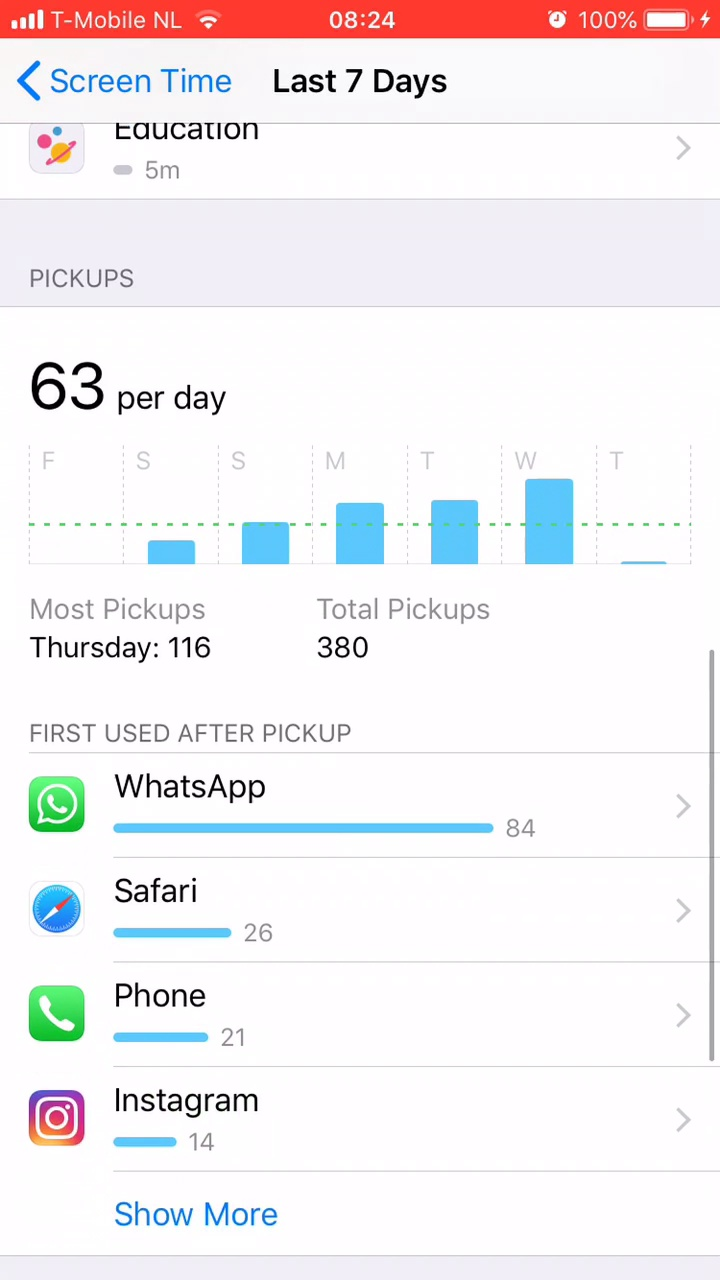pick_app: (16, 757, 566, 860), (17, 1069, 297, 1169), (20, 860, 305, 954), (18, 973, 268, 1056)
pick_over: (20, 577, 532, 686)
week: (260, 58, 462, 105)
